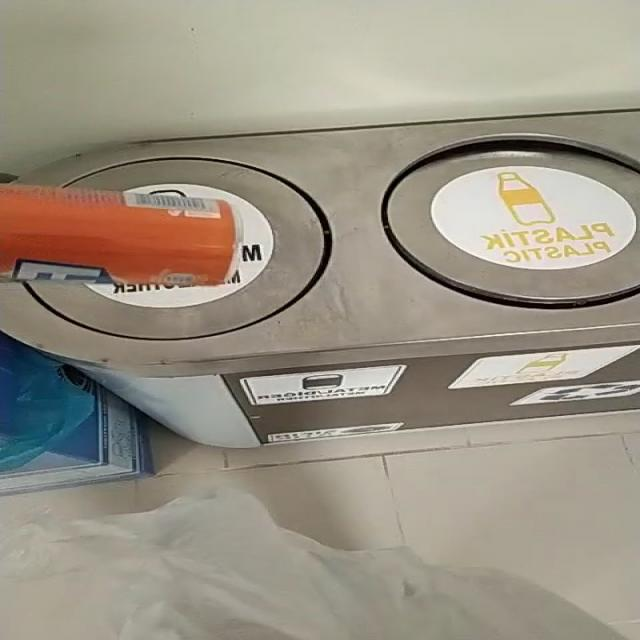bin: (1, 111, 640, 446)
metal: (0, 186, 236, 285)
